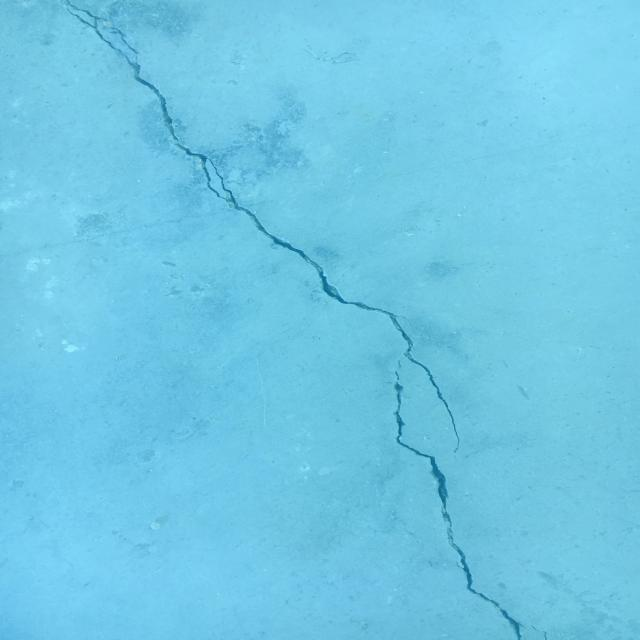crack: (64, 0, 460, 453), (393, 360, 526, 640), (532, 626, 548, 640)
